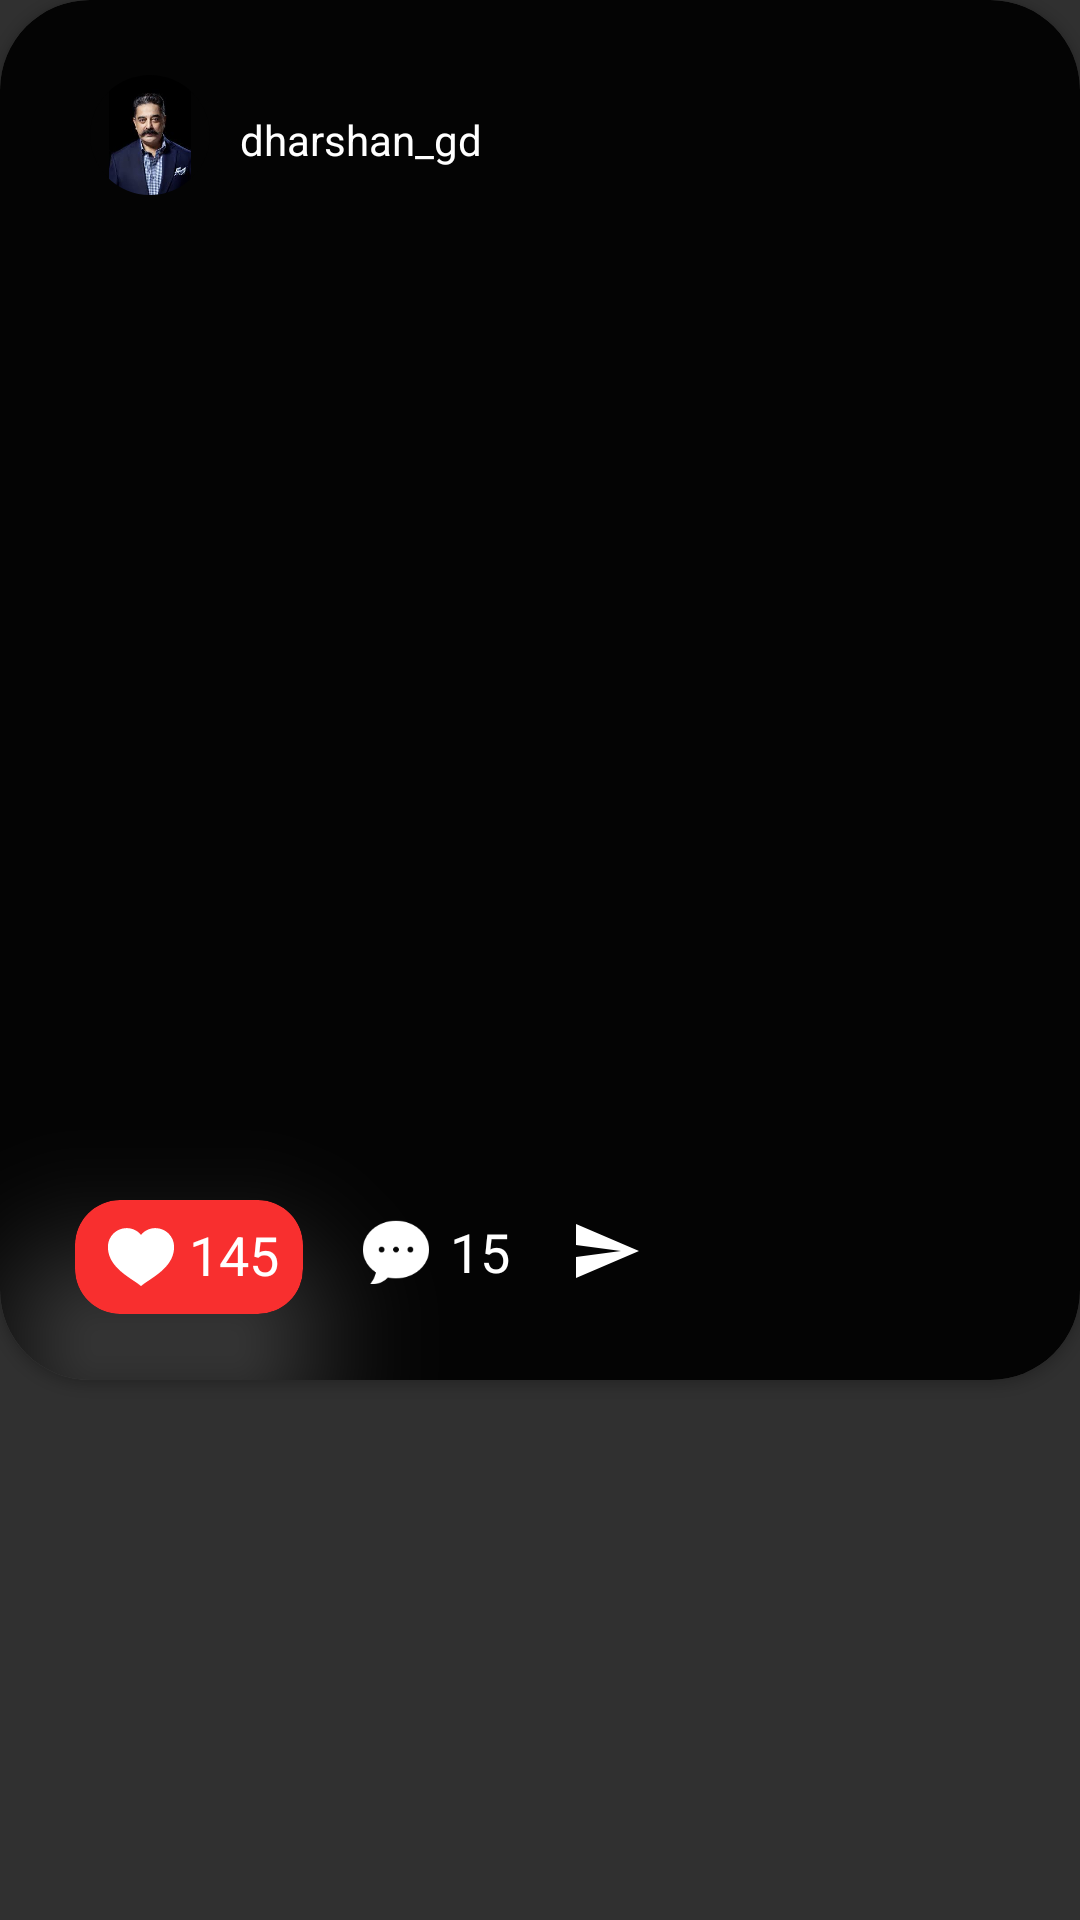

Where to tap for icons on this 1080px×1920px app screen, as [x,y]:
chat: [396,1252]
heart: [141,1257]
send: [607,1251]
